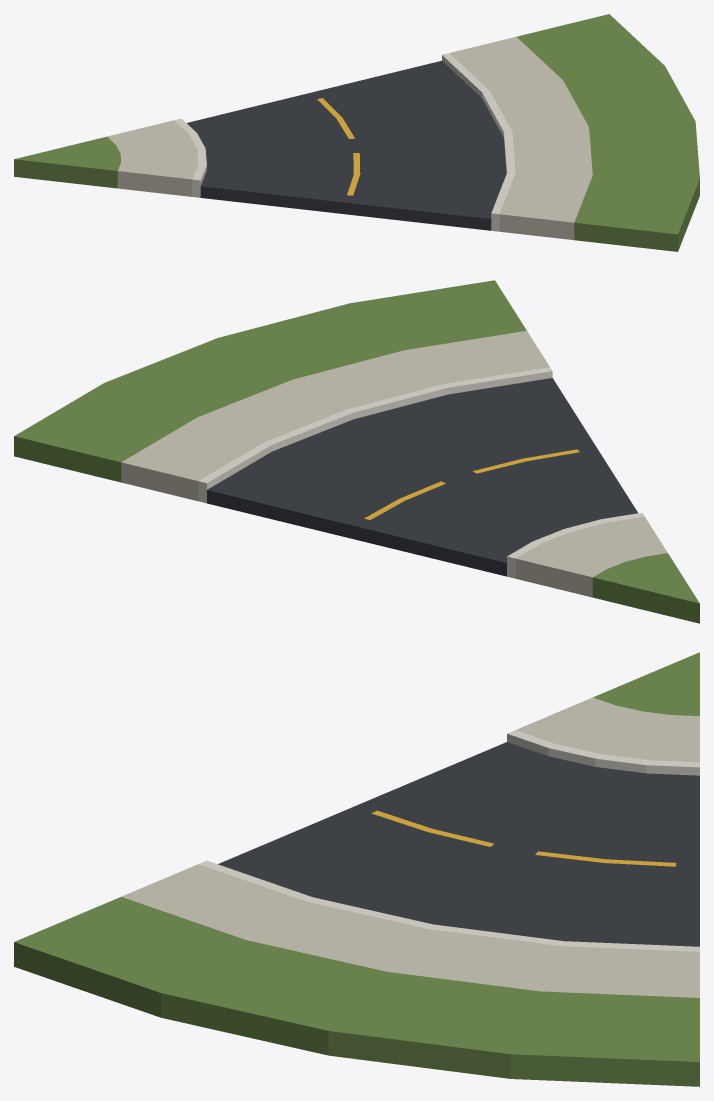
Rendered from Road_2Lane_Sidewalk_Curve45_R.glb.
3 views of the same model, one above another, from view 1: azimuth 30°, elevation 25°; view 2: azimuth 150°, elevation 25°; view 3: azimuth 270°, elevation 25° (orthographic). The views are drawn at different scales.
Visible parts, largest first — view 1: Road_2Lane_Sidewalk_Curve45_R_Asphalt, Road_2Lane_Sidewalk_Curve45_R_Grass-edge, Road_2Lane_Sidewalk_Curve45_R_Sidewalk, Road_2Lane_Sidewalk_Curve45_R_Curb, Road_2Lane_Sidewalk_Curve45_R_PaintYellow; view 2: Road_2Lane_Sidewalk_Curve45_R_Asphalt, Road_2Lane_Sidewalk_Curve45_R_Grass-edge, Road_2Lane_Sidewalk_Curve45_R_Sidewalk, Road_2Lane_Sidewalk_Curve45_R_Curb, Road_2Lane_Sidewalk_Curve45_R_PaintYellow; view 3: Road_2Lane_Sidewalk_Curve45_R_Grass-edge, Road_2Lane_Sidewalk_Curve45_R_Asphalt, Road_2Lane_Sidewalk_Curve45_R_Sidewalk, Road_2Lane_Sidewalk_Curve45_R_Curb, Road_2Lane_Sidewalk_Curve45_R_PaintYellow.
Part boxes in pixels (<box>): Road_2Lane_Sidewalk_Curve45_R_Asphalt: <box>187,60,506,230</box>; Road_2Lane_Sidewalk_Curve45_R_Grass-edge: <box>14,14,699,251</box>; Road_2Lane_Sidewalk_Curve45_R_Sidewalk: <box>107,37,592,239</box>; Road_2Lane_Sidewalk_Curve45_R_Curb: <box>174,53,515,231</box>; Road_2Lane_Sidewalk_Curve45_R_PaintYellow: <box>317,98,360,195</box>; Road_2Lane_Sidewalk_Curve45_R_Asphalt: <box>207,378,637,576</box>; Road_2Lane_Sidewalk_Curve45_R_Grass-edge: <box>14,280,699,623</box>; Road_2Lane_Sidewalk_Curve45_R_Sidewalk: <box>121,330,667,597</box>; Road_2Lane_Sidewalk_Curve45_R_Curb: <box>198,367,644,578</box>; Road_2Lane_Sidewalk_Curve45_R_PaintYellow: <box>364,449,579,519</box>; Road_2Lane_Sidewalk_Curve45_R_Grass-edge: <box>14,652,699,1086</box>; Road_2Lane_Sidewalk_Curve45_R_Asphalt: <box>218,742,699,946</box>; Road_2Lane_Sidewalk_Curve45_R_Sidewalk: <box>121,697,699,997</box>; Road_2Lane_Sidewalk_Curve45_R_Curb: <box>198,730,699,951</box>; Road_2Lane_Sidewalk_Curve45_R_PaintYellow: <box>371,810,676,866</box>.
Size of the model in its own units: 16 by 0.45 by 11.31.
